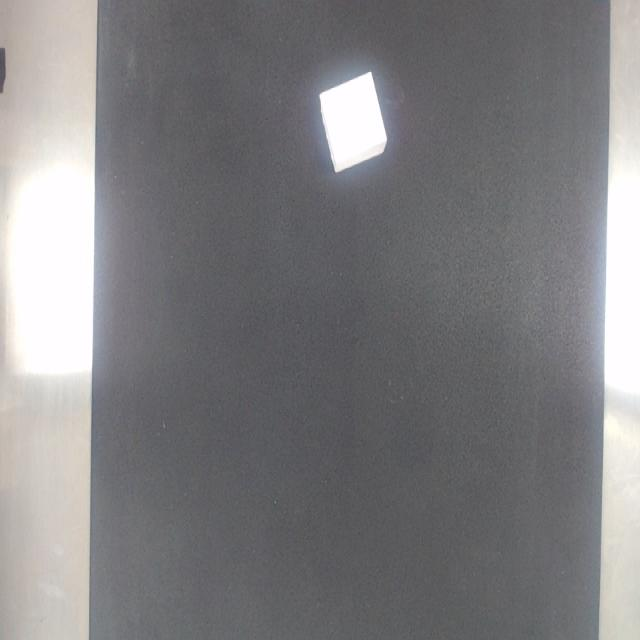Blanco: (319, 72, 386, 172)
